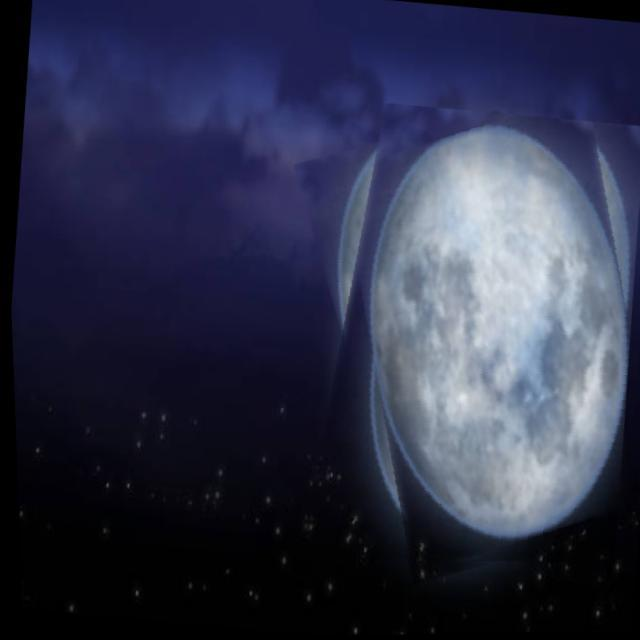moon: (282, 95, 640, 591)
